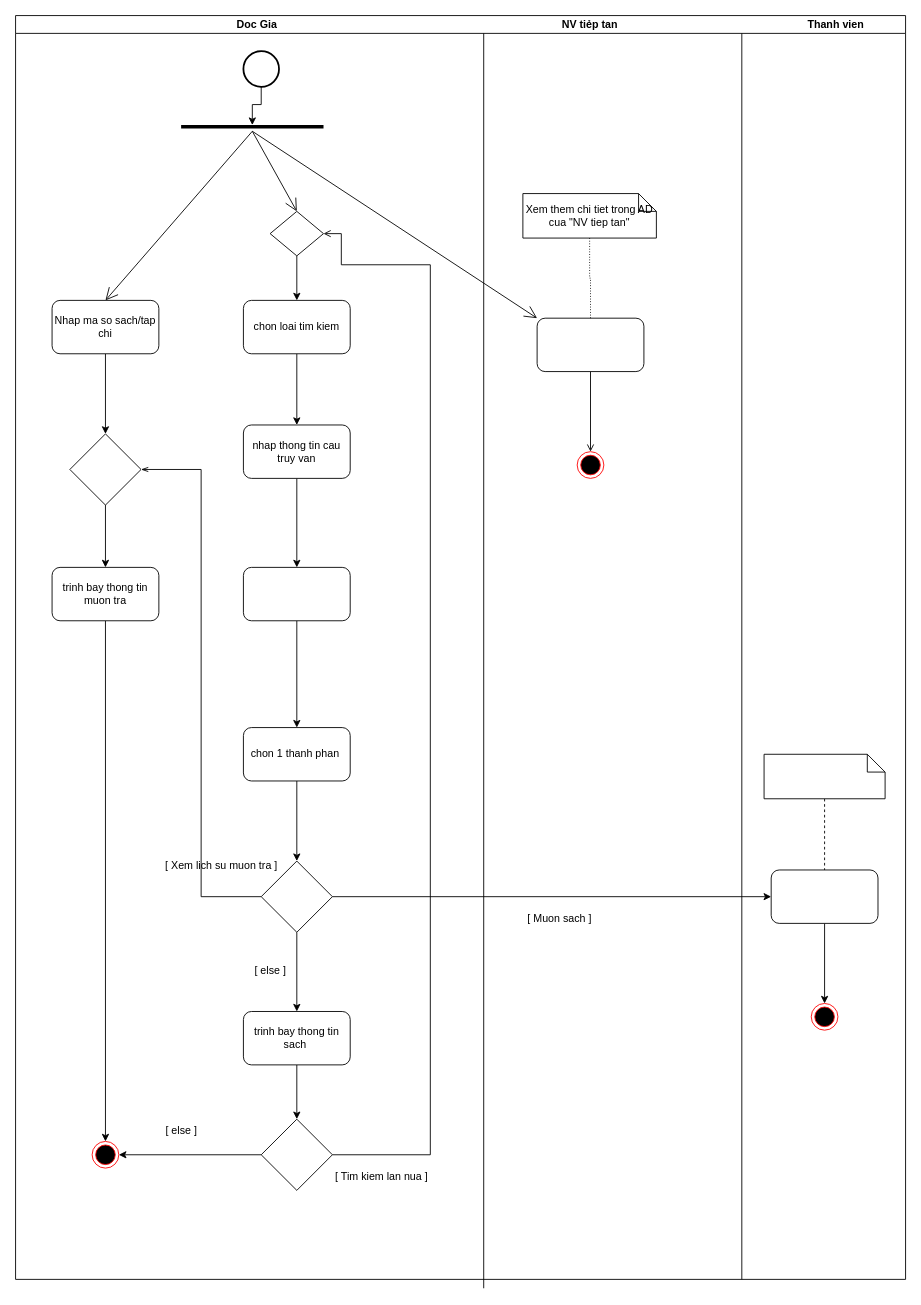
This 921x1305 diagram has some shape labels left out. Here are the shapes that lost their labels. From the top down, the centre of each, then its label:
point 590,344: dang ky thanh
point 296,593: liẹt ke danh sach ket qua
point 824,776: Xem them chi tiet trong ad cua "Thanh Vien"
point 824,896: xu ly muon sach
